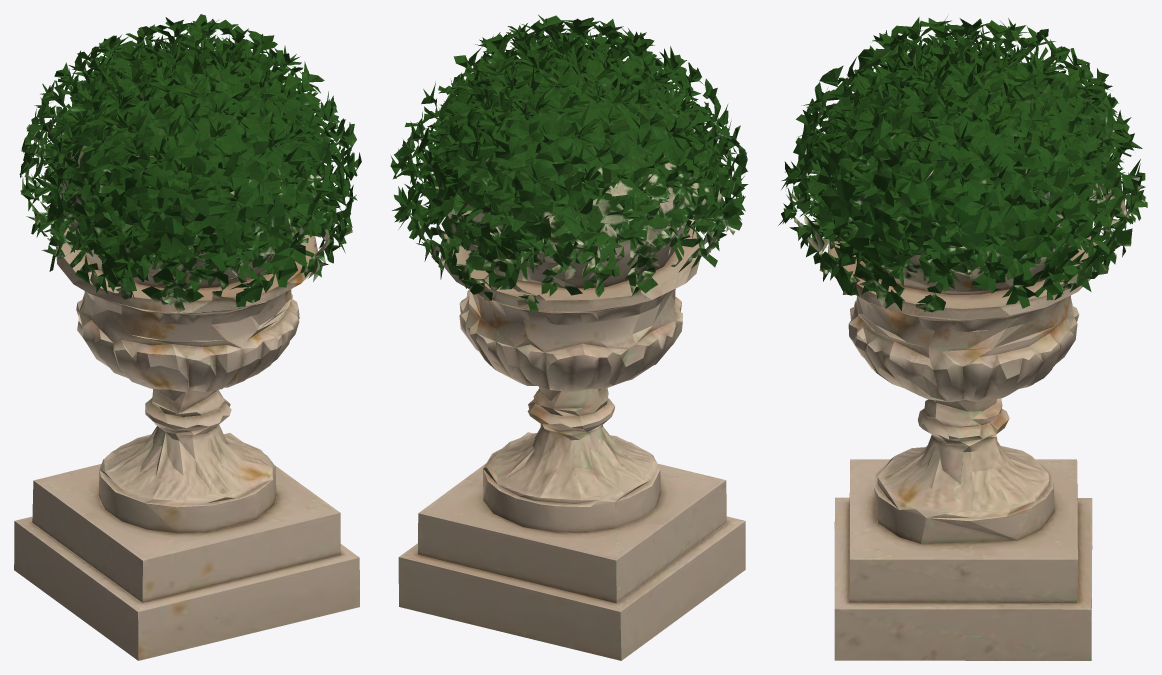
The model's file is monumentalVase.glb.
The picture shows the model from 3 angles, left to right: view 1: azimuth 30°, elevation 25°; view 2: azimuth 150°, elevation 25°; view 3: azimuth 270°, elevation 25°; orthographic projection. The views are drawn at different scales.
Size of the model in its own units: 1.09 by 1.9 by 1.12.
Materials: 1 (1 with a texture image).
